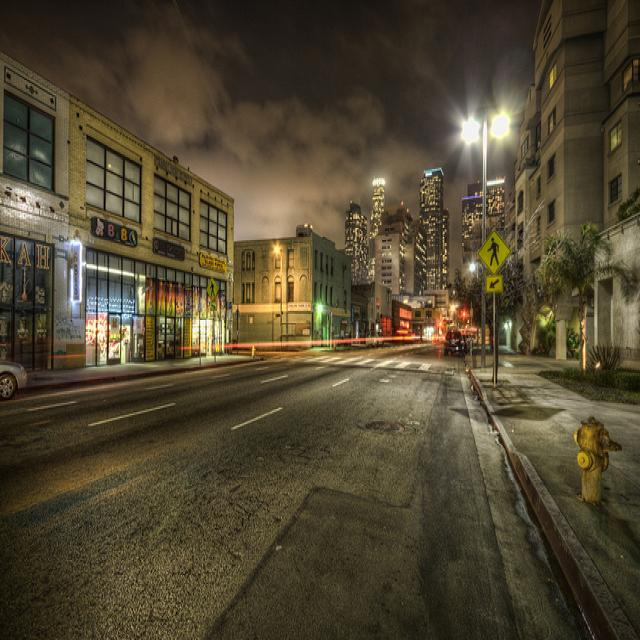Vehicle: (0, 359, 28, 400), (444, 331, 469, 356)
